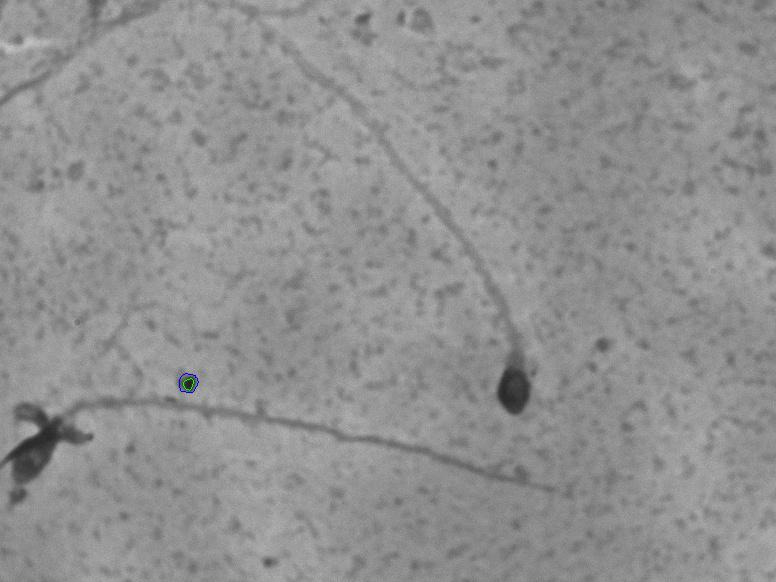Abnormal: (386, 97, 580, 446), (8, 397, 592, 512)
